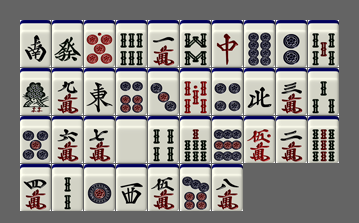0m: (244, 116, 275, 163)
0p: (84, 20, 115, 67)
0s: (180, 68, 211, 115)
1m: (148, 20, 179, 67)
1p: (84, 164, 115, 211)
1s: (20, 68, 51, 115)
1z: (84, 68, 115, 115)
2m: (276, 116, 307, 163)
2p: (276, 20, 307, 67)
2s: (52, 164, 83, 211)
2z: (20, 20, 51, 67)
3m: (276, 68, 307, 115)
3p: (148, 68, 179, 115)
3s: (308, 68, 339, 115)
3z: (116, 164, 147, 211)
4m: (20, 164, 51, 211)
4p: (212, 68, 243, 115)
4s: (148, 116, 179, 163)
4z: (244, 68, 275, 115)
5m: (148, 164, 179, 211)
5p: (20, 116, 51, 163)
5s: (308, 20, 339, 67)
5z: (116, 116, 147, 163)
6m: (52, 116, 83, 163)
6p: (116, 68, 147, 115)
6s: (116, 20, 147, 67)
6z: (52, 20, 83, 67)
7m: (84, 116, 115, 163)
7p: (180, 164, 211, 211)
7s: (180, 116, 211, 163)
7z: (212, 20, 243, 67)
8m: (212, 164, 243, 211)
8p: (244, 20, 275, 67)
8s: (180, 20, 211, 67)
9m: (52, 68, 83, 115)
9p: (212, 116, 243, 163)
9s: (308, 116, 339, 163)
